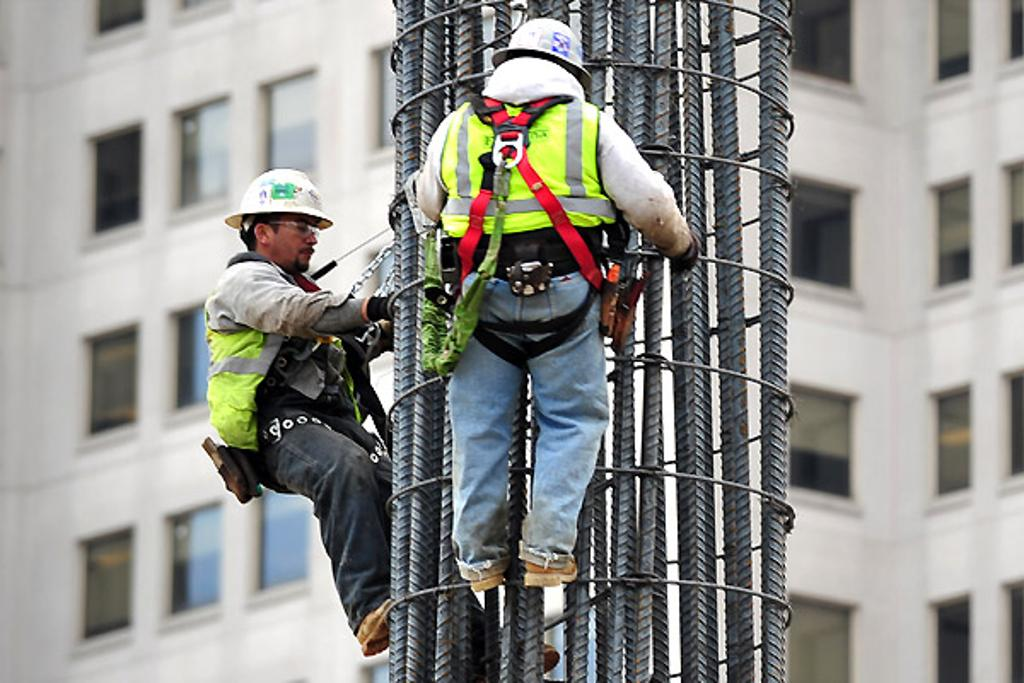face: (258, 192, 318, 266)
